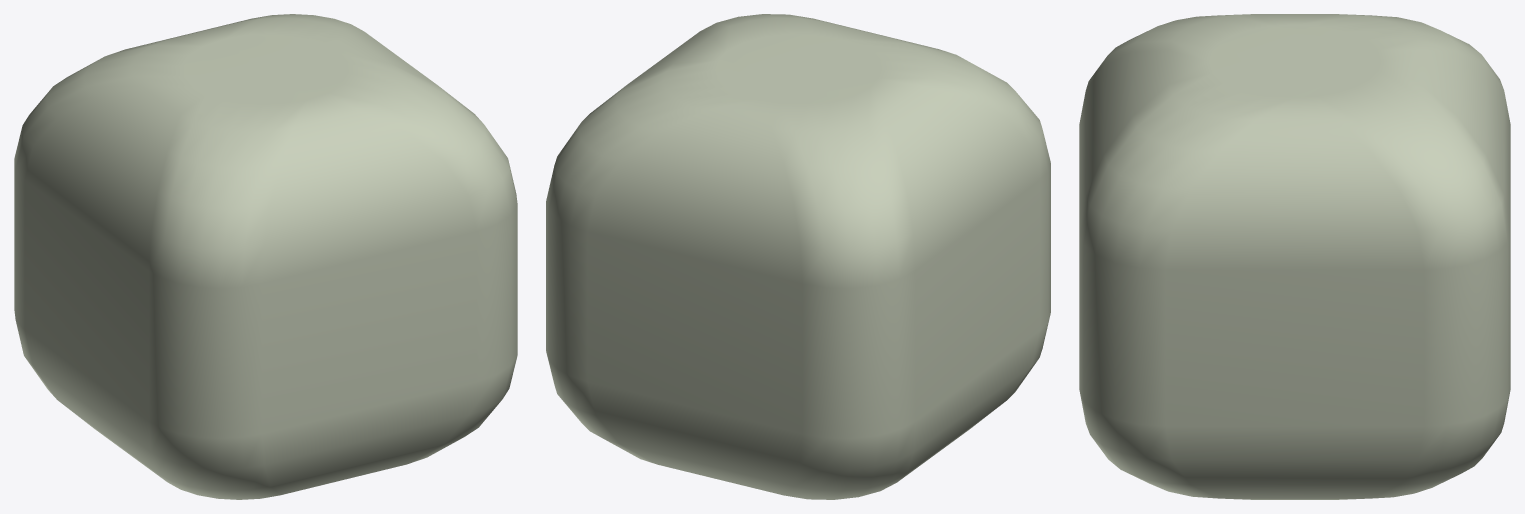
The model's file is Obstacle.fbx.
The picture shows the model from 3 angles, left to right: view 1: azimuth 30°, elevation 25°; view 2: azimuth 150°, elevation 25°; view 3: azimuth 270°, elevation 25°; orthographic projection. The views are drawn at different scales.
Visible parts, largest first — view 1: pCube1; view 2: pCube1; view 3: pCube1.
Part boxes in pixels (x1=…): pCube1: x1=14, y1=14, x2=517, y2=499; pCube1: x1=546, y1=14, x2=1050, y2=499; pCube1: x1=1079, y1=14, x2=1510, y2=499.
Size of the model in its own units: 1 by 1 by 1.
